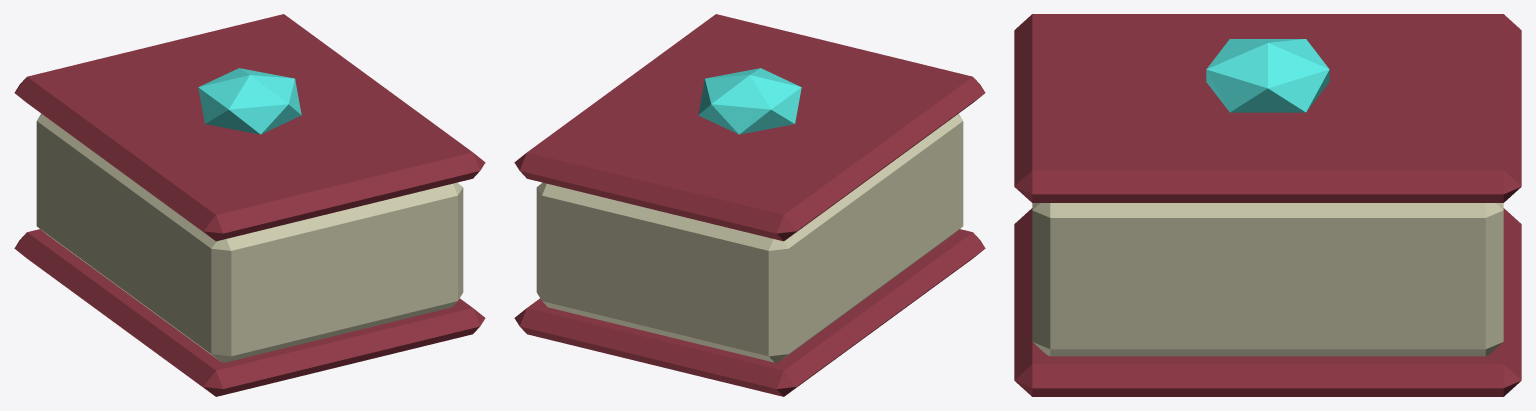
Rendered from SH10_SongOfMana.fbx.
3 views of the same model, side by side, from view 1: azimuth 30°, elevation 25°; view 2: azimuth 150°, elevation 25°; view 3: azimuth 270°, elevation 25° (orthographic). The views are drawn at different scales.
Parts seen in each view (by area): view 1: SH10_SongOfMana; view 2: SH10_SongOfMana; view 3: SH10_SongOfMana.
Part boxes in pixels (x1,y1,x2,y2): SH10_SongOfMana: (14, 14, 485, 396); SH10_SongOfMana: (514, 14, 985, 396); SH10_SongOfMana: (1014, 14, 1521, 396).
Size of the model in its own units: 56 by 42 by 70.
